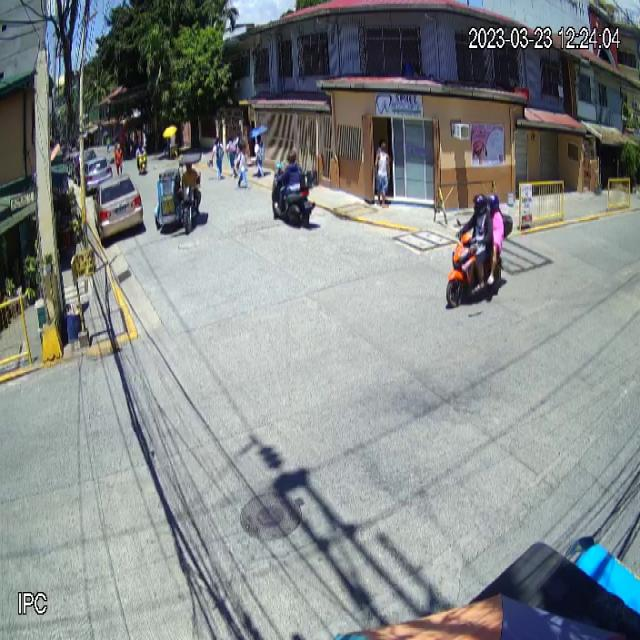Motorcycle: (446, 230, 503, 310)
Tricycle: (155, 154, 201, 234)
